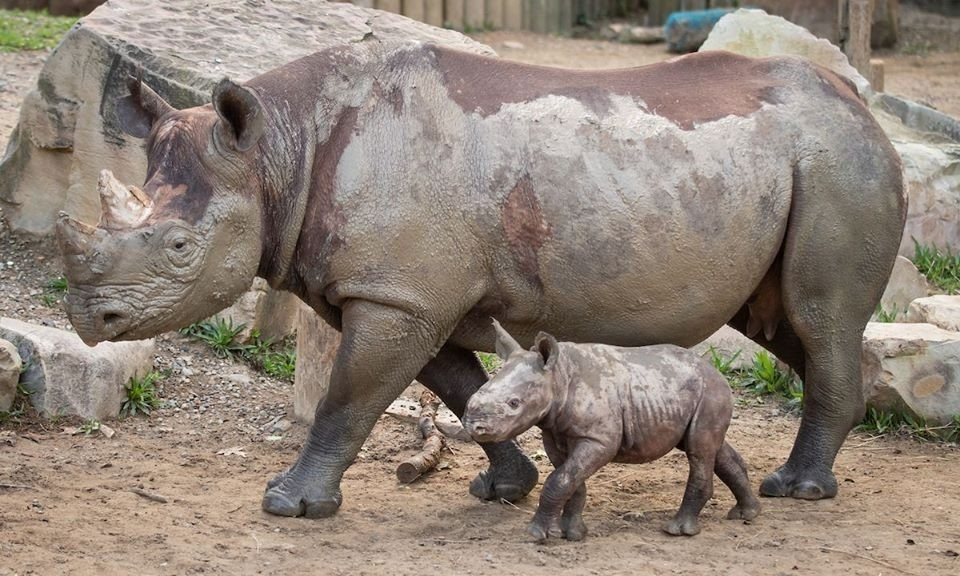rhino: (56, 35, 912, 519), (460, 319, 773, 544)
